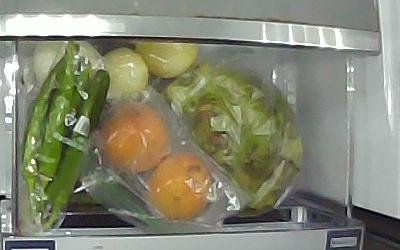peach_vinyl: (102, 104, 170, 176), (151, 154, 213, 220)
